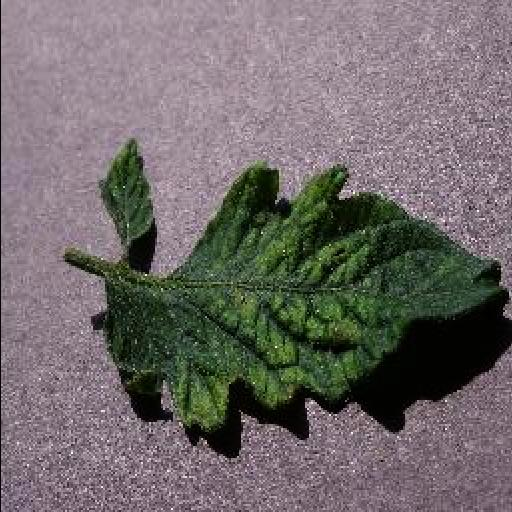Mosaic Virus: (94, 142, 504, 436)
